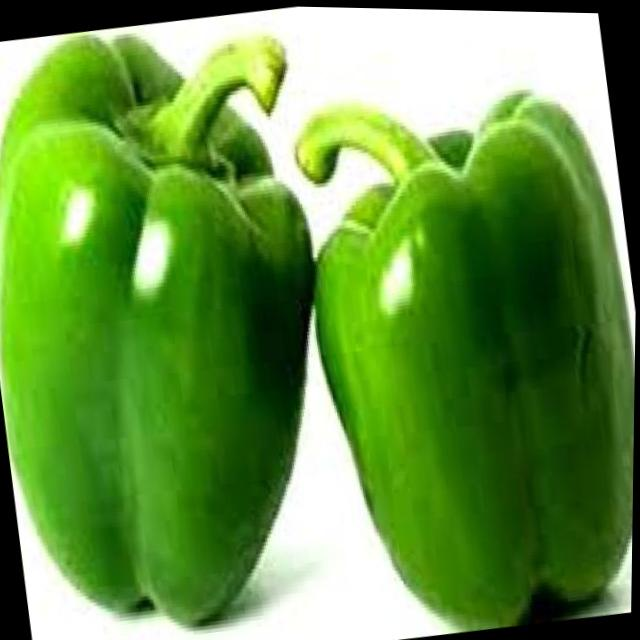Capsicum: (0, 3, 360, 640), (283, 67, 639, 640)
